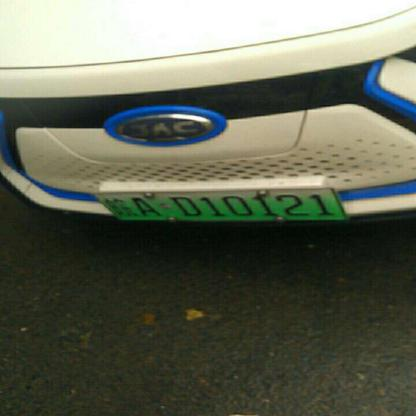lp: (93, 189, 346, 220)
